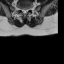CCS_stenosis: (24, 7, 26, 15)
LFS_normal: (28, 5, 30, 12)
LLS_normal: (26, 7, 28, 14)
RFS_stenosis: (20, 6, 22, 12)
RLS_normal: (22, 7, 24, 15)
